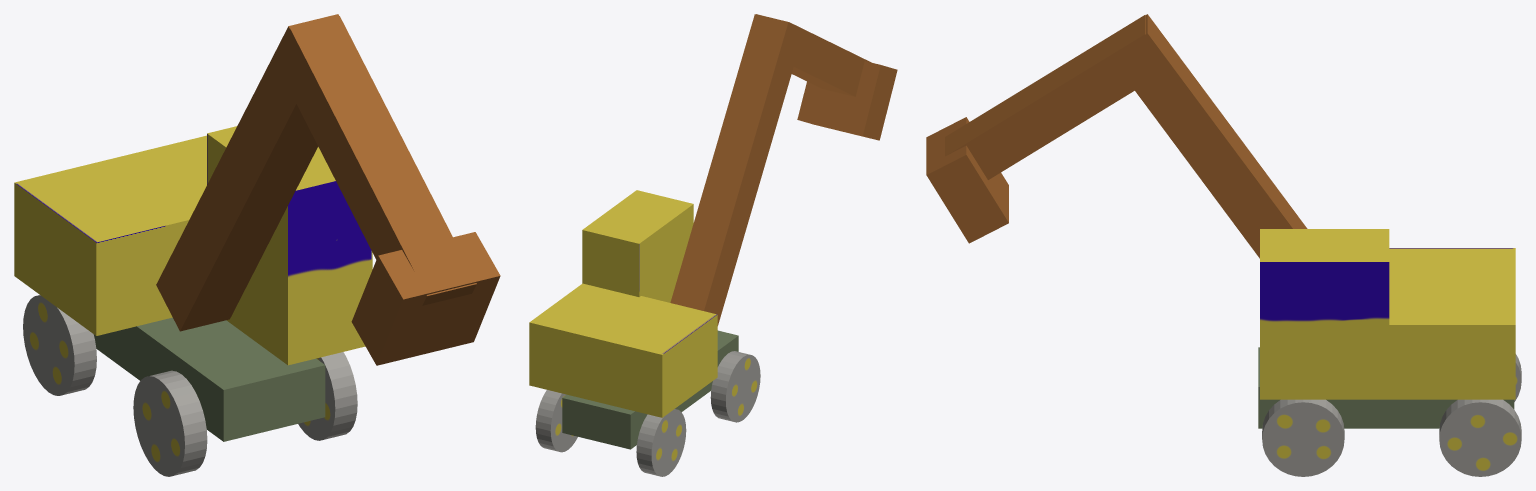
The model's file is koparka.glb.
The picture shows the model from 3 angles, left to right: view 1: azimuth 30°, elevation 25°; view 2: azimuth 150°, elevation 25°; view 3: azimuth 270°, elevation 25°; orthographic projection. The views are drawn at different scales.
Visible parts, largest first — view 1: Kabina, ramieKrotkie, ramieDlugie, Podwozie, Lopata, PrawyPrzod, PrawyTyl, LewyPrzod; view 2: Kabina, ramieDlugie, Lopata, Podwozie, ramieKrotkie, PrawyPrzod, PrawyTyl, LewyTyl; view 3: Kabina, ramieKrotkie, ramieDlugie, Lopata, LewyPrzod, LewyTyl, Podwozie.
Boxes of the visible parts, box(x1,y1,x2,y2) form: Kabina: box(14, 126, 372, 365); ramieKrotkie: box(274, 16, 476, 305); ramieDlugie: box(156, 14, 338, 331); Podwozie: box(93, 317, 325, 441); Lopata: box(351, 232, 500, 365); PrawyPrzod: box(133, 370, 207, 476); PrawyTyl: box(23, 295, 96, 395); LewyPrzod: box(298, 352, 357, 440); Kabina: box(529, 190, 717, 417); ramieDlugie: box(670, 14, 795, 325); Lopata: box(797, 61, 897, 140); Podwozie: box(562, 330, 738, 449); ramieKrotkie: box(756, 14, 871, 96); PrawyPrzod: box(710, 351, 760, 422); PrawyTyl: box(636, 409, 686, 476); LewyTyl: box(535, 390, 577, 452); Kabina: box(1260, 229, 1515, 399); ramieKrotkie: box(945, 15, 1170, 179); ramieDlugie: box(1110, 14, 1307, 258); Lopata: box(926, 117, 1008, 243); LewyPrzod: box(1262, 399, 1344, 476); LewyTyl: box(1439, 399, 1521, 476); Podwozie: box(1258, 347, 1514, 428).
Bounding box in the file's own units: 4.43 × 10.93 × 14.45.
Materials: 9 (9 with a texture image).
